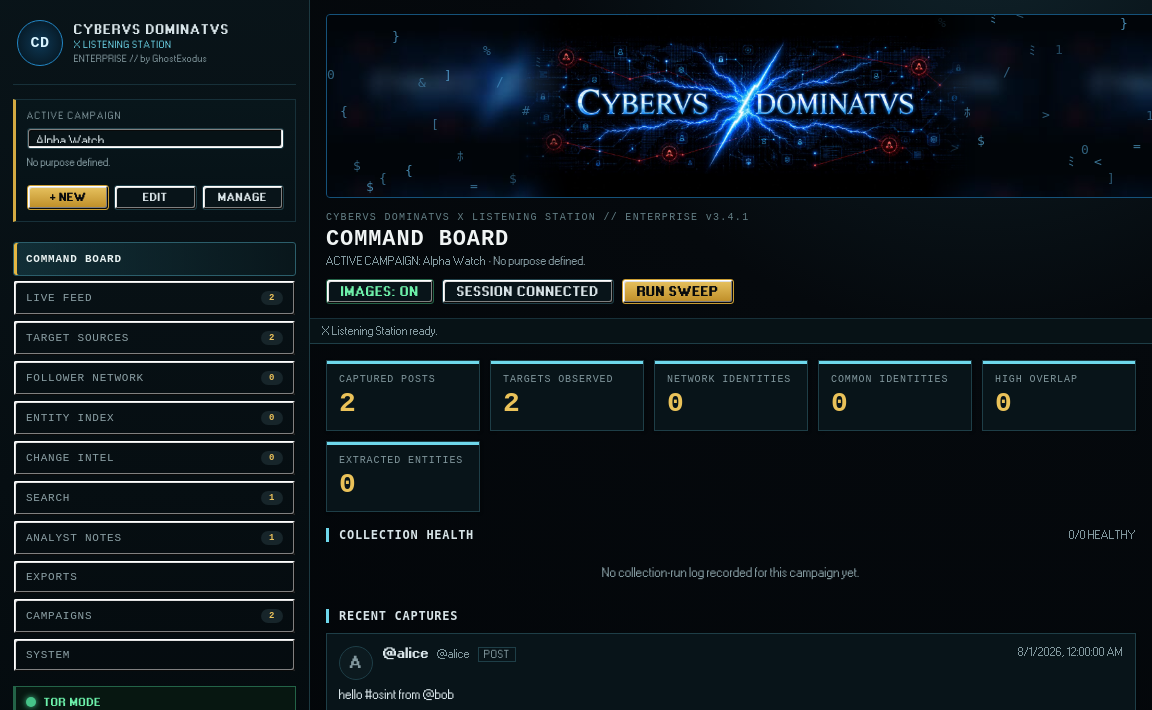
Scenario: X Listening Station tabs (Task 15) › exports tab shows "canceled" honestly rather than a fabricated success
The image size is (1152, 710).
Click the button with class "xls-tab" showing "EXPORTS" at [52, 577], box [13, 560, 296, 594]
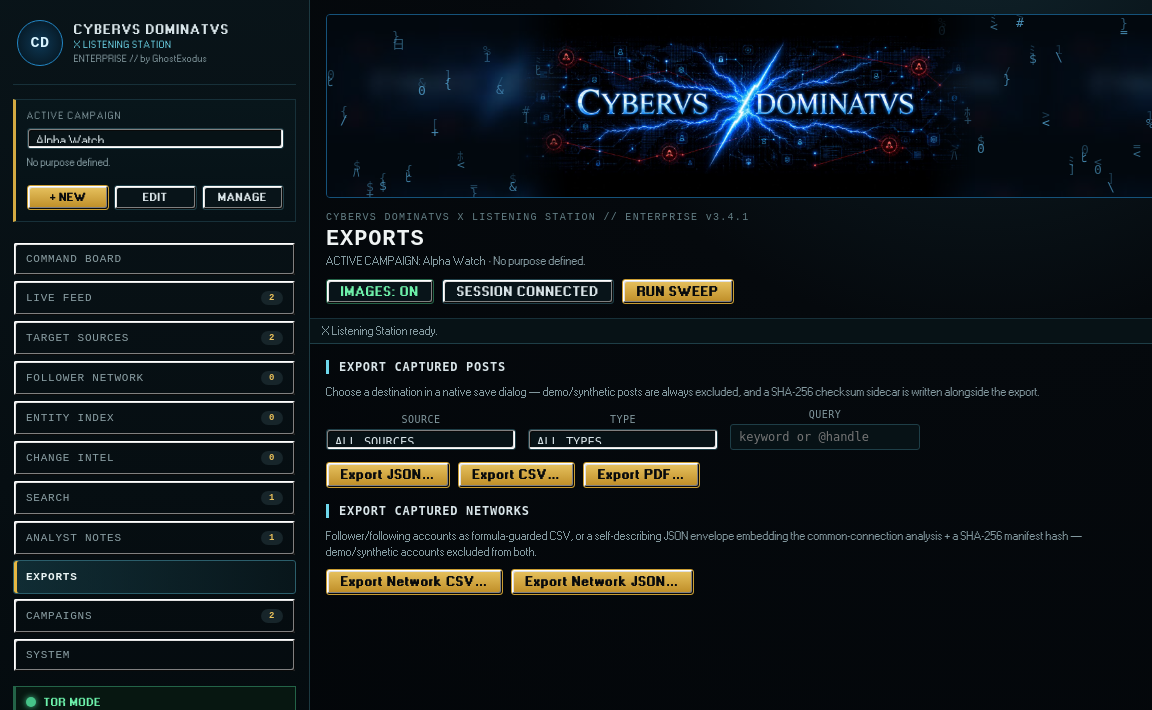
Click the button "Export CSV…" at [516, 475], box [458, 462, 575, 488]
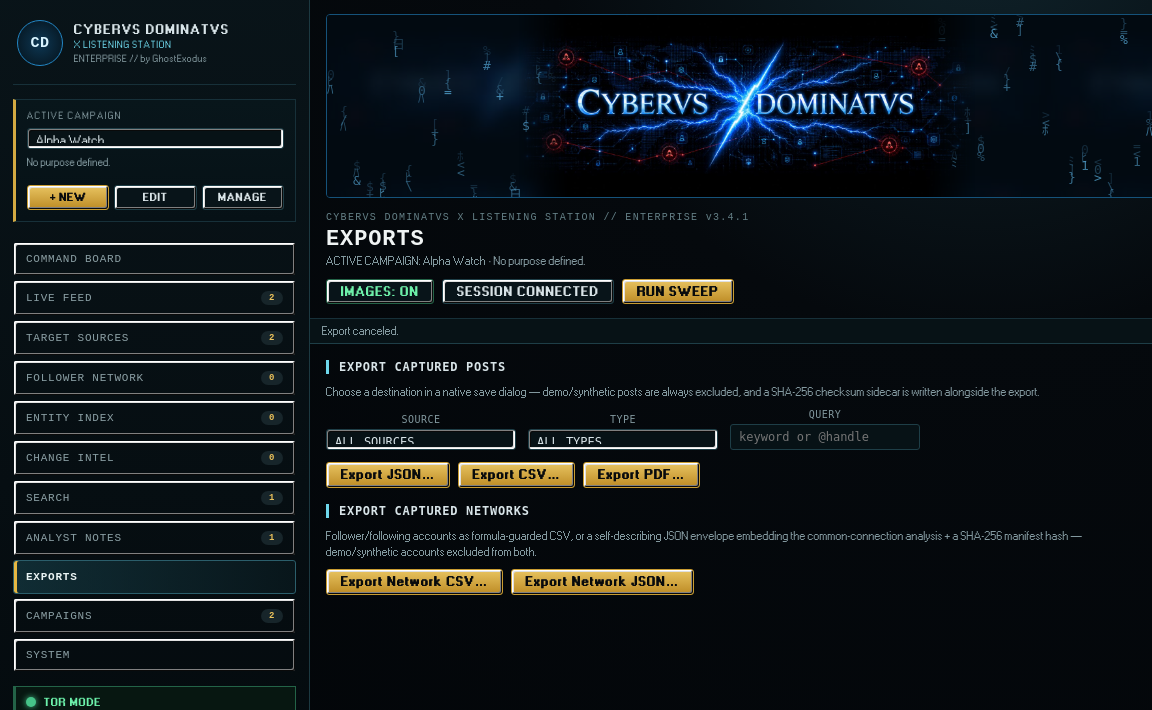
Expected: the text "Export canceled" is shown, [322, 325, 399, 337]
